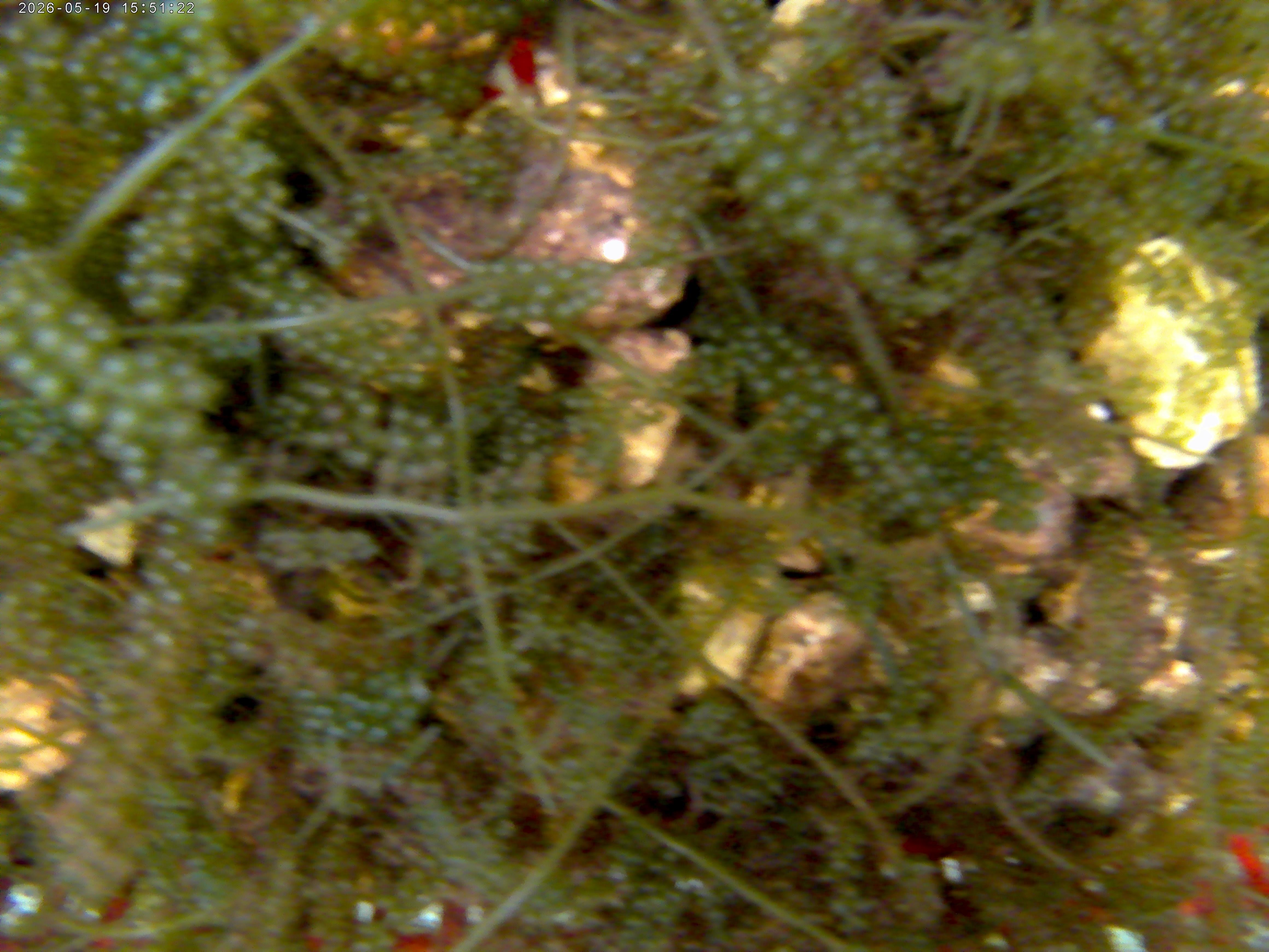Darkening: (320, 402, 346, 425), (348, 82, 367, 103)
Harvestable: (176, 376, 219, 410), (32, 368, 69, 407), (132, 377, 174, 410), (32, 322, 67, 359), (137, 88, 171, 124), (67, 401, 102, 435), (37, 22, 71, 56), (99, 352, 134, 384), (64, 338, 96, 371), (115, 68, 147, 101), (793, 140, 825, 172), (109, 406, 140, 437), (171, 409, 199, 443), (2, 187, 34, 216), (135, 345, 168, 373), (755, 152, 788, 180), (830, 179, 861, 207), (761, 189, 790, 218), (792, 212, 821, 241), (822, 236, 850, 266), (376, 455, 403, 485), (209, 476, 237, 504), (104, 16, 132, 44), (65, 57, 93, 85), (90, 324, 119, 351), (78, 80, 107, 107), (387, 430, 416, 457), (836, 212, 862, 242), (131, 292, 166, 314), (193, 4, 222, 30), (5, 357, 36, 381), (771, 121, 798, 148), (2, 21, 30, 47), (8, 285, 33, 314), (5, 138, 34, 163), (168, 206, 195, 232), (165, 74, 192, 100), (83, 370, 110, 396), (532, 279, 560, 304), (419, 342, 448, 366), (138, 55, 167, 79), (175, 489, 199, 517), (123, 442, 151, 466), (773, 361, 798, 387), (889, 231, 914, 257), (162, 44, 188, 69), (68, 303, 95, 327), (551, 299, 578, 323), (121, 269, 143, 298), (26, 301, 56, 322), (496, 3, 521, 28), (289, 269, 314, 294), (196, 437, 223, 460), (785, 176, 812, 199), (146, 416, 168, 444), (170, 358, 198, 380), (144, 243, 172, 265), (424, 429, 449, 453), (0, 324, 24, 349), (120, 44, 145, 68), (356, 398, 381, 422), (220, 462, 246, 485), (254, 259, 280, 282), (347, 448, 373, 471), (114, 97, 138, 121), (416, 68, 440, 92), (341, 42, 365, 66), (0, 156, 23, 181), (100, 129, 125, 152), (869, 443, 893, 466), (407, 0, 430, 24), (49, 99, 73, 122), (185, 61, 210, 83), (165, 276, 188, 299), (237, 182, 260, 205), (97, 66, 121, 88), (178, 242, 205, 261), (401, 373, 424, 395), (752, 106, 775, 128), (412, 411, 435, 433), (716, 147, 738, 170), (101, 50, 124, 72), (385, 681, 408, 703), (298, 334, 320, 357), (89, 105, 112, 127), (842, 445, 866, 466), (360, 59, 382, 81), (372, 698, 394, 720), (364, 673, 386, 695), (515, 258, 537, 280), (210, 69, 232, 91), (222, 151, 245, 172), (866, 421, 889, 442), (856, 257, 879, 278), (100, 431, 123, 452), (525, 301, 548, 322), (390, 716, 413, 737), (375, 316, 396, 338), (280, 328, 301, 350), (813, 424, 834, 446), (726, 107, 748, 128), (199, 159, 221, 180), (391, 404, 412, 426), (412, 683, 434, 704), (353, 208, 375, 229), (273, 249, 296, 269), (193, 86, 216, 106), (343, 385, 366, 405), (719, 91, 743, 110), (10, 249, 35, 267), (313, 350, 339, 367), (368, 724, 389, 745), (371, 345, 393, 365), (204, 179, 224, 201), (220, 131, 242, 151), (733, 131, 755, 151), (737, 176, 759, 196), (132, 28, 154, 48), (502, 305, 524, 325), (245, 243, 268, 262), (897, 451, 920, 470), (157, 477, 181, 495), (782, 393, 803, 413), (842, 420, 862, 441), (399, 701, 420, 721), (754, 377, 775, 397), (223, 196, 244, 216), (880, 462, 901, 482), (123, 468, 145, 487), (144, 268, 163, 290), (243, 139, 265, 158), (865, 222, 884, 244), (184, 28, 206, 47), (555, 265, 577, 284), (411, 47, 433, 66), (358, 361, 381, 379), (898, 491, 921, 509), (748, 71, 771, 89), (177, 183, 197, 203), (465, 2, 485, 22), (835, 386, 854, 407), (204, 201, 225, 220), (291, 400, 312, 419), (176, 166, 197, 185), (322, 330, 342, 349), (912, 463, 932, 482), (875, 193, 894, 213), (391, 73, 411, 92), (721, 5, 741, 24), (842, 109, 862, 128), (861, 94, 881, 113), (577, 257, 597, 276), (845, 129, 865, 148), (886, 143, 906, 162), (856, 394, 877, 412), (346, 717, 367, 735), (351, 324, 373, 341), (271, 299, 293, 316), (779, 98, 801, 115), (434, 12, 453, 31), (791, 347, 812, 364), (871, 479, 892, 496), (754, 89, 776, 105), (337, 357, 355, 376), (447, 4, 467, 21), (813, 376, 831, 394), (481, 10, 499, 28), (132, 224, 151, 241), (897, 470, 914, 489), (712, 132, 731, 149), (130, 253, 150, 269), (805, 403, 825, 419), (386, 0, 406, 16), (400, 329, 418, 346), (874, 156, 892, 173), (539, 258, 557, 275), (439, 89, 458, 105), (444, 76, 463, 92), (383, 371, 403, 386), (154, 190, 171, 207), (286, 418, 303, 434), (453, 64, 470, 80), (765, 325, 783, 340), (804, 361, 822, 376), (776, 337, 794, 352), (853, 465, 872, 479), (294, 303, 314, 316), (882, 125, 898, 141), (866, 143, 883, 158), (884, 173, 901, 188), (148, 217, 166, 228)
